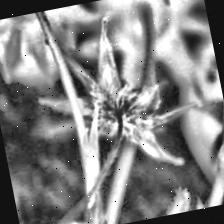Gray Mold: (26, 8, 185, 189)
